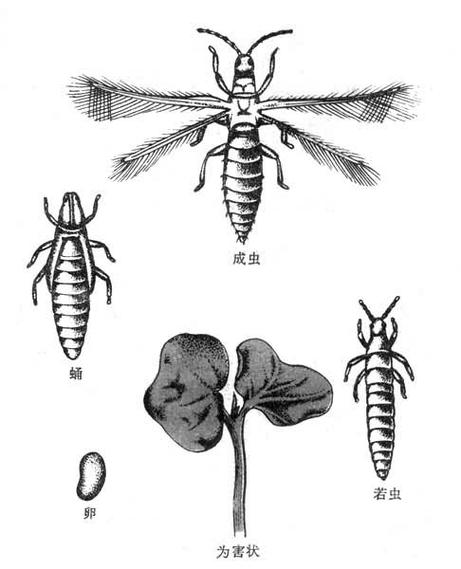Thripidae: (67, 30, 418, 245)
